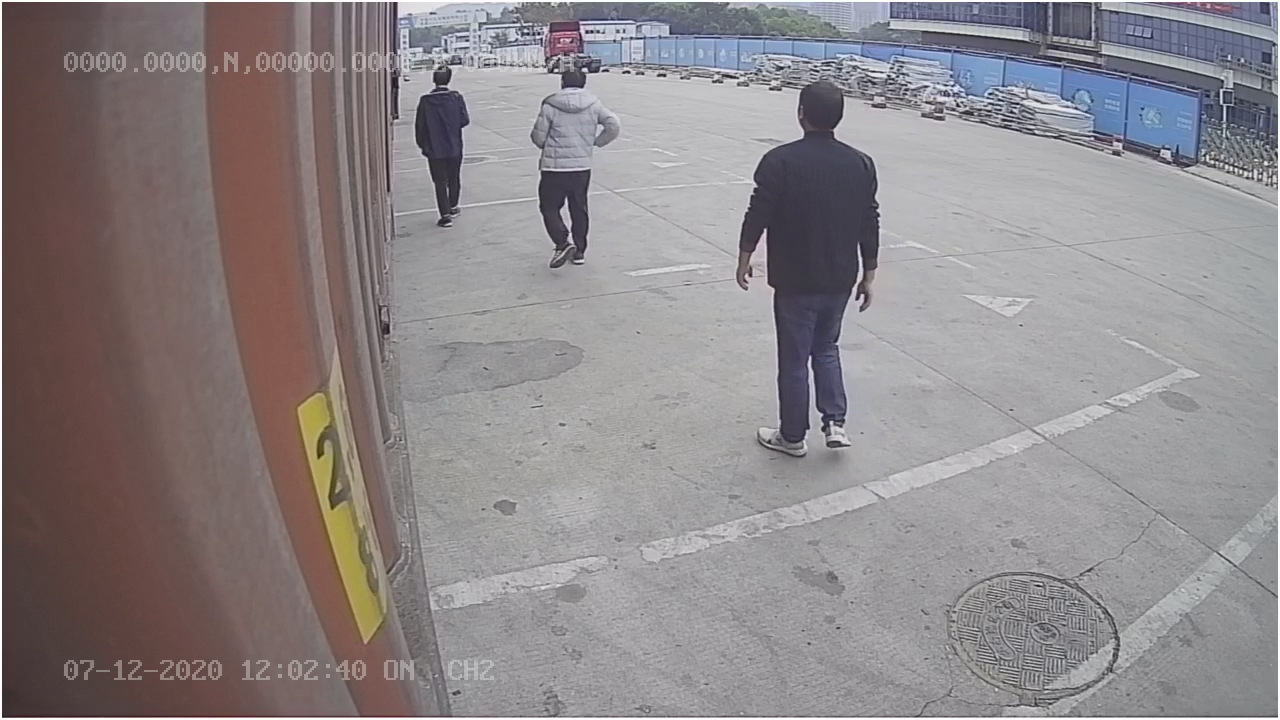person: (734, 79, 882, 460)
